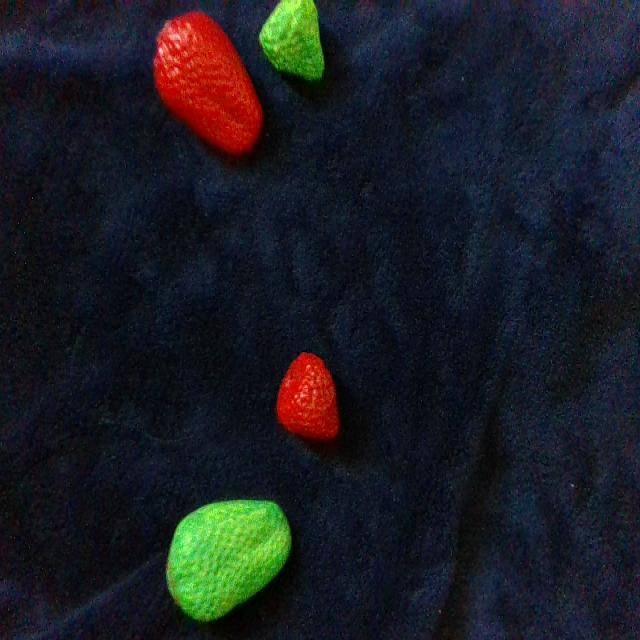chica_roja: (277, 353, 338, 439)
grande_roja: (154, 12, 262, 153)
verde: (167, 503, 291, 620), (260, 0, 323, 80)
